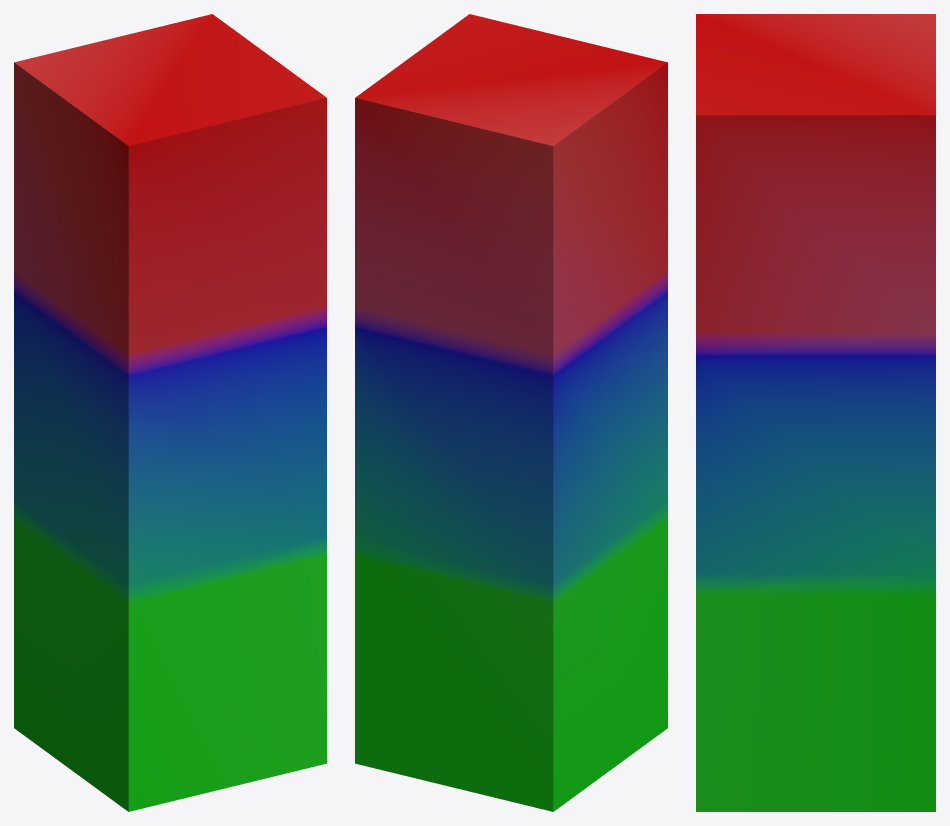
Rendered from rig.glb.
3 renders of one model, left to right at view 1: azimuth 30°, elevation 25°; view 2: azimuth 150°, elevation 25°; view 3: azimuth 270°, elevation 25°, orthographic. The views are drawn at different scales.
Visible parts, largest first — view 1: skinMesh; view 2: skinMesh; view 3: skinMesh.
Part boxes in pixels (box(x1,y1,x2,y2)): skinMesh: box(14, 14, 326, 811); skinMesh: box(355, 14, 667, 811); skinMesh: box(696, 14, 935, 811).
Size of the model in its own units: 2 by 6.41 by 2.
